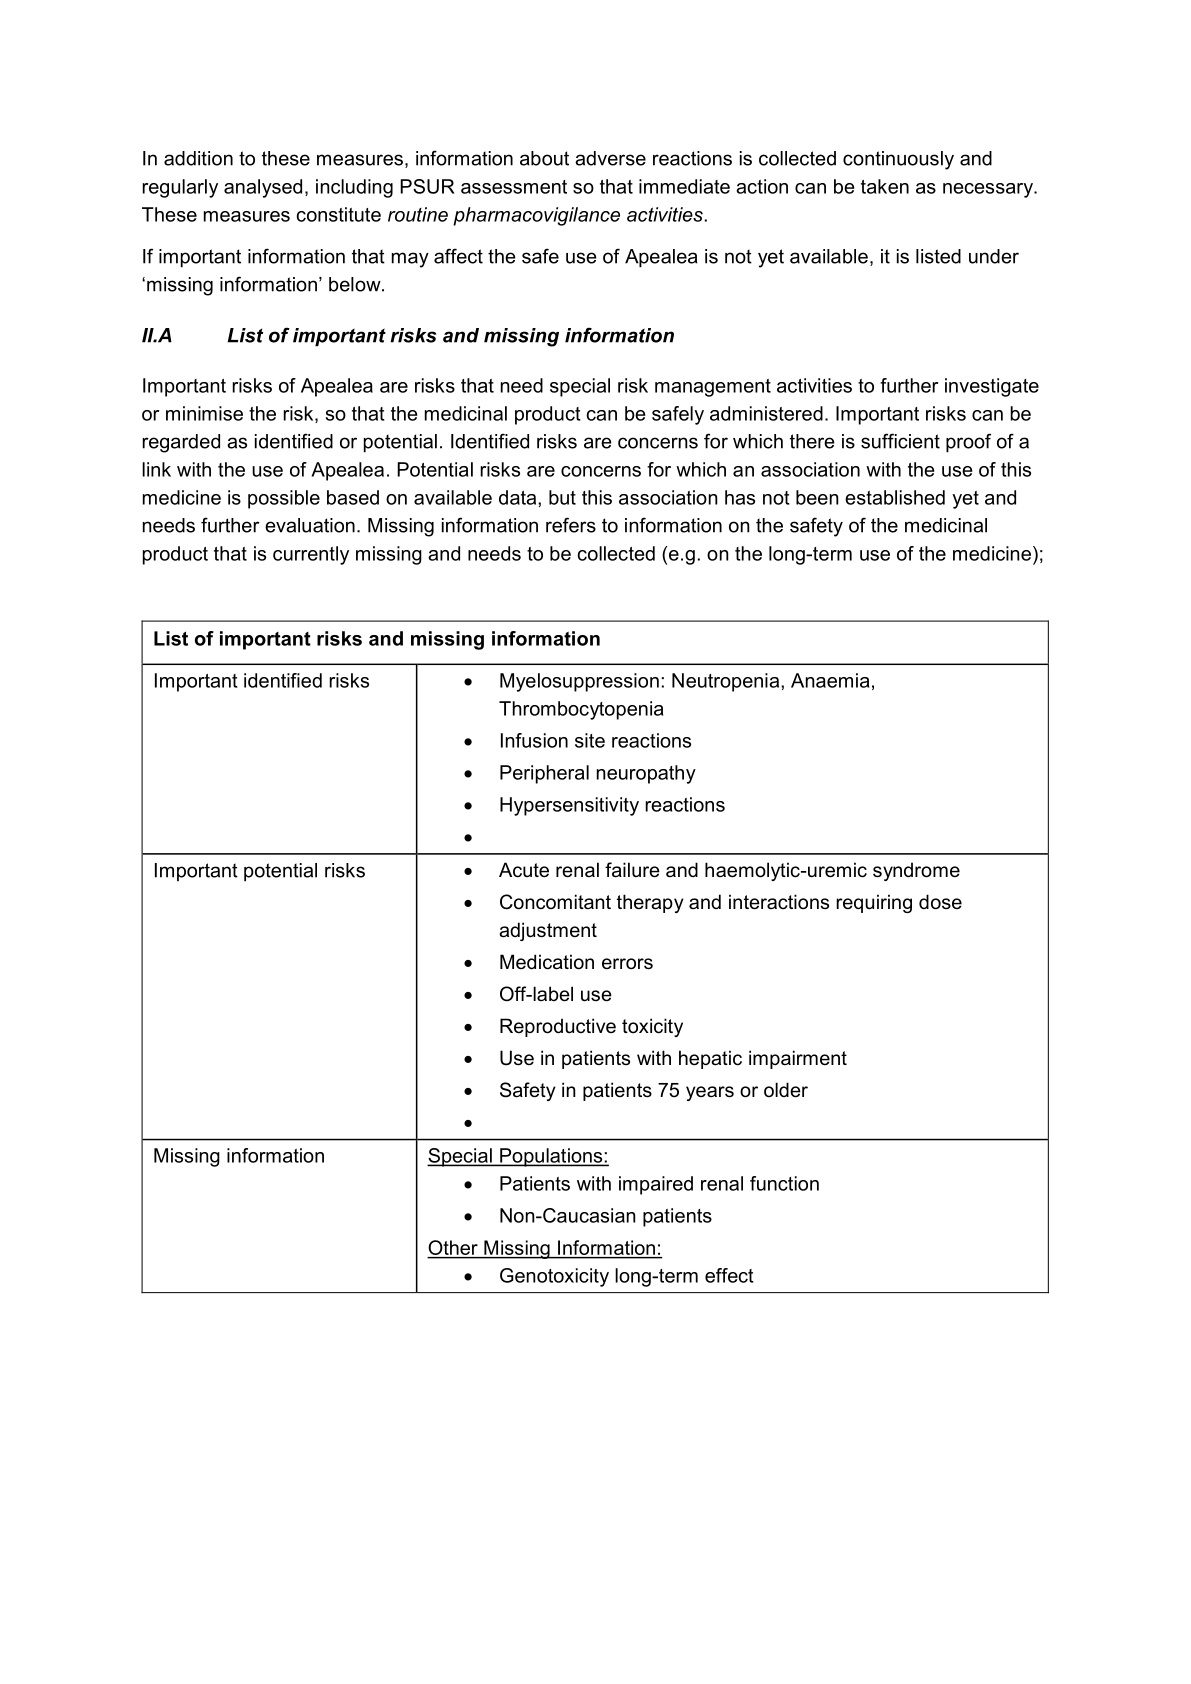merged_cells: (140, 618, 1051, 1294)
